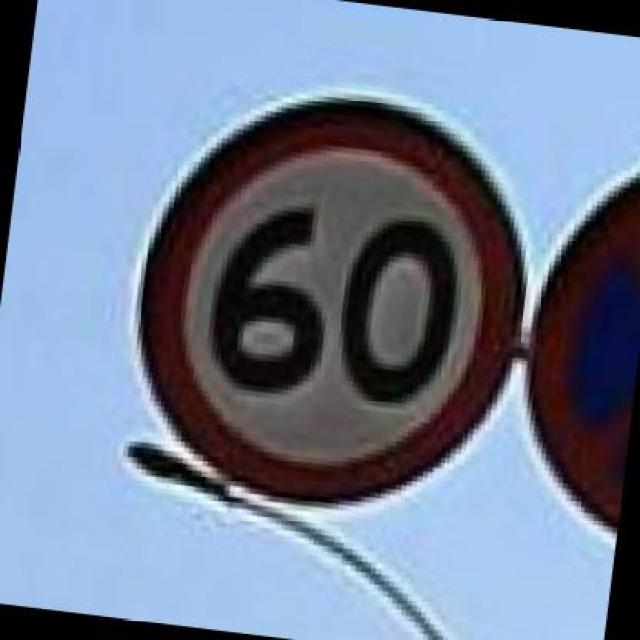Limite-60: (138, 90, 526, 508)
